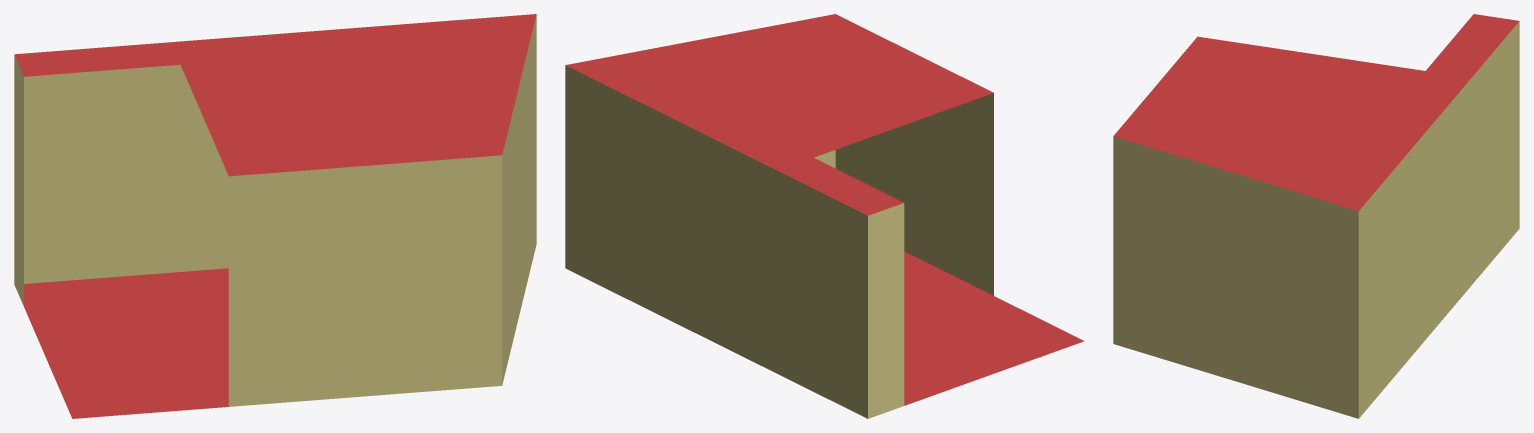
3 views of the same model, side by side, from view 1: azimuth 30°, elevation 25°; view 2: azimuth 150°, elevation 25°; view 3: azimuth 270°, elevation 25° (orthographic). The views are drawn at different scales.
Size of the model in its own units: 13.37 by 9.91 by 5.59.
